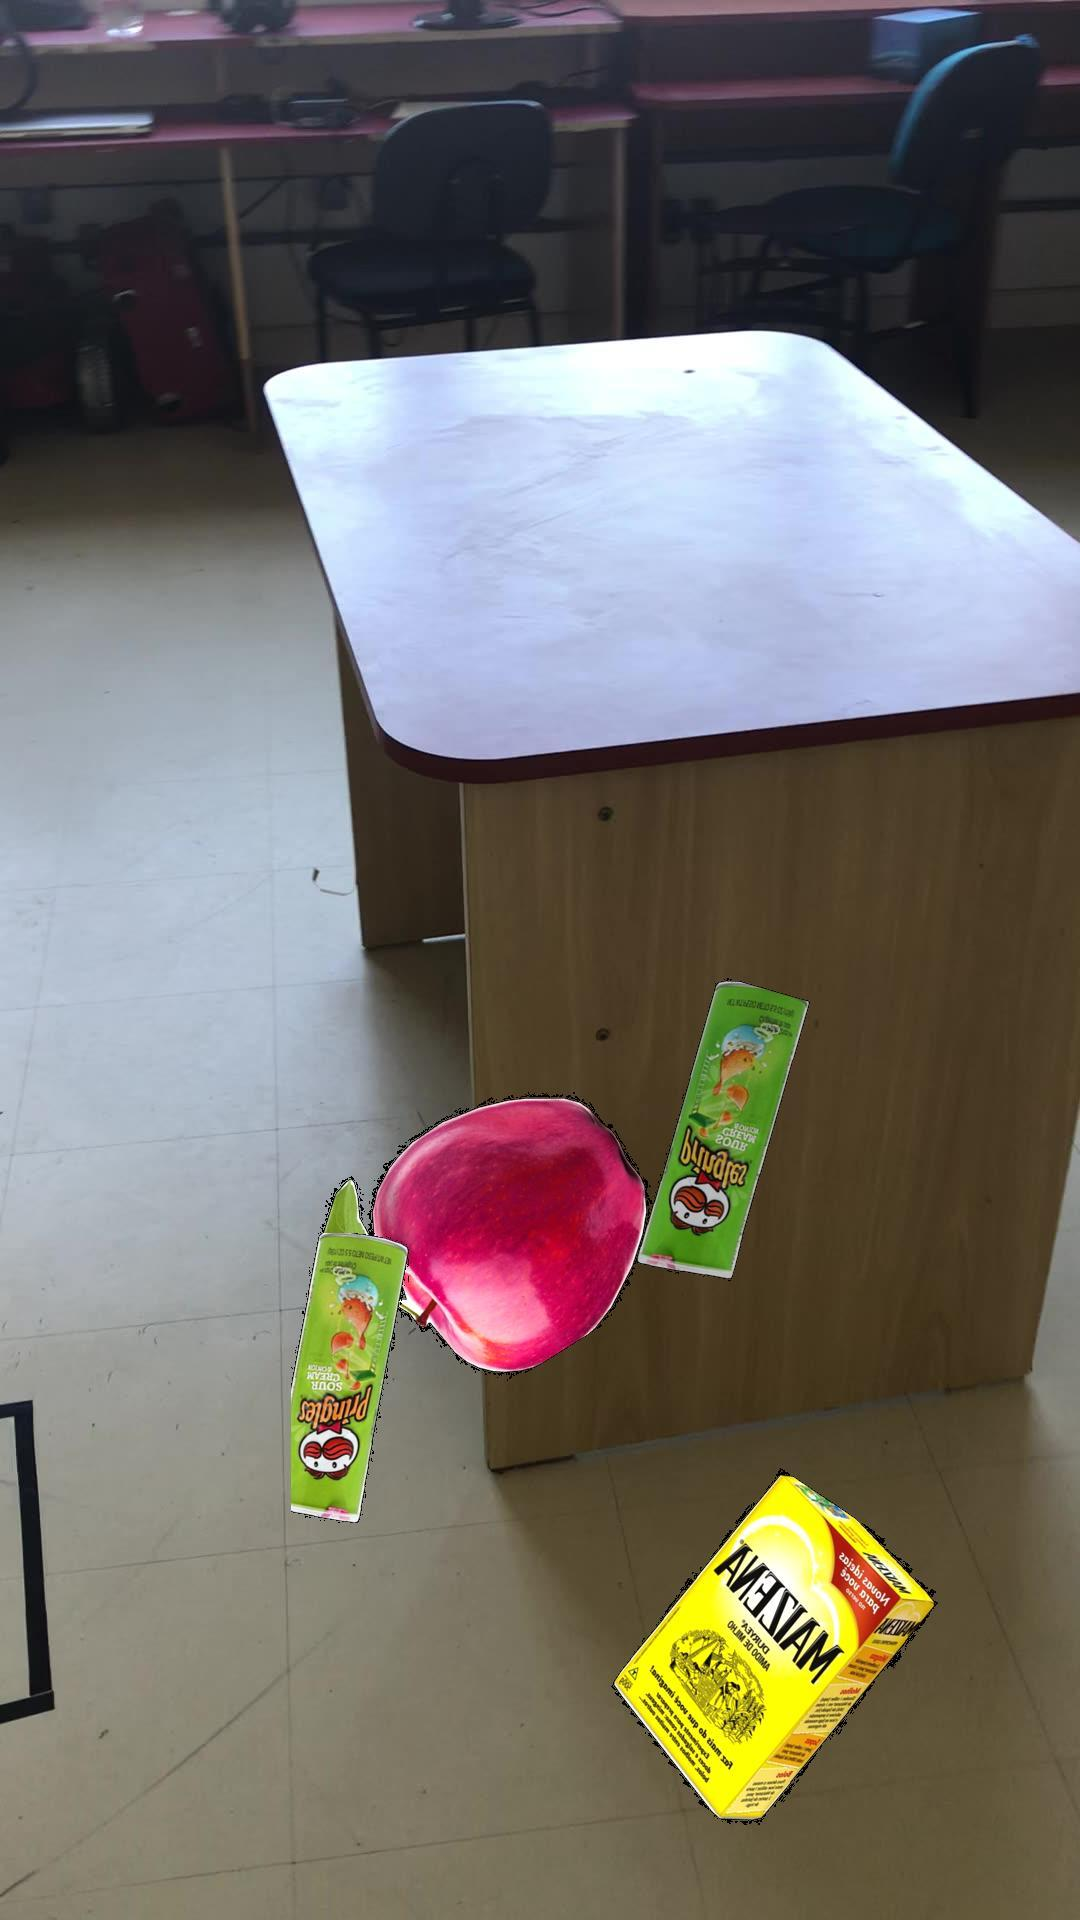apple: (319, 1092, 649, 1374)
pringles: (636, 977, 808, 1278), (290, 1232, 407, 1522)
